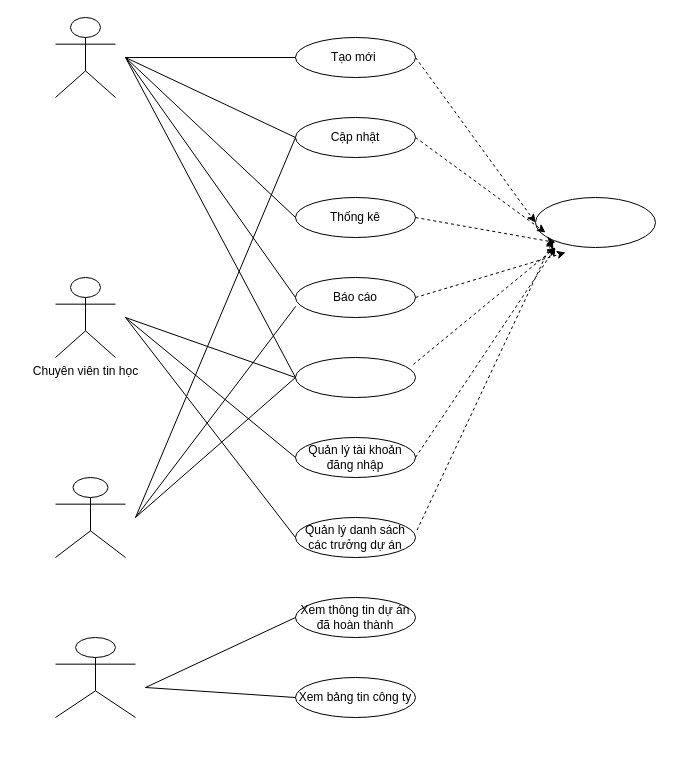
Image size: 673x771. Some labels were removed from this diagram. The centre of each missing label's shape, as x and y in pixels:
"Các trưởng dự án" goes at point 90,517.
"Cán bộ phòng kinh doanh" goes at point 85,57.
"Tìm kiếm" goes at point 355,377.
"Đăng nhập" goes at point 595,222.
"Đối tượng sử dụng (không có tài khoản)" goes at point 95,677.
